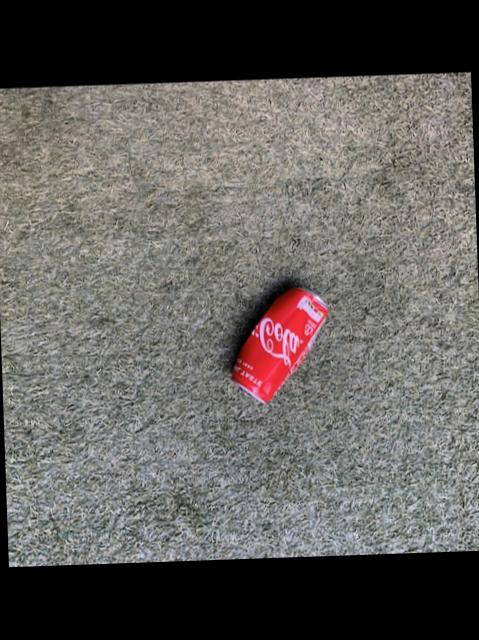metal: (229, 288, 324, 402)
